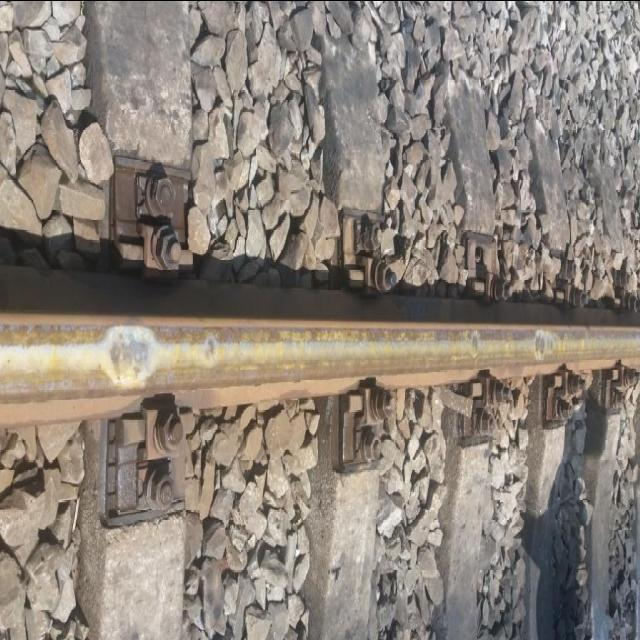squats_low: (102, 332, 160, 387), (534, 332, 558, 362), (199, 340, 225, 367), (466, 334, 488, 352)
